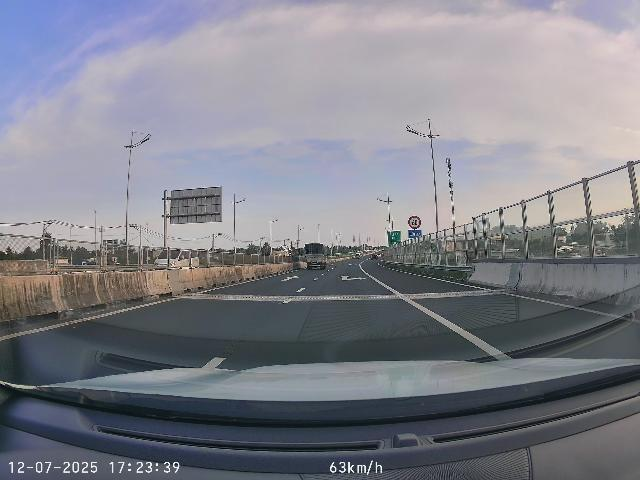127-toc-do-toi-da-60: (408, 215, 421, 229)
